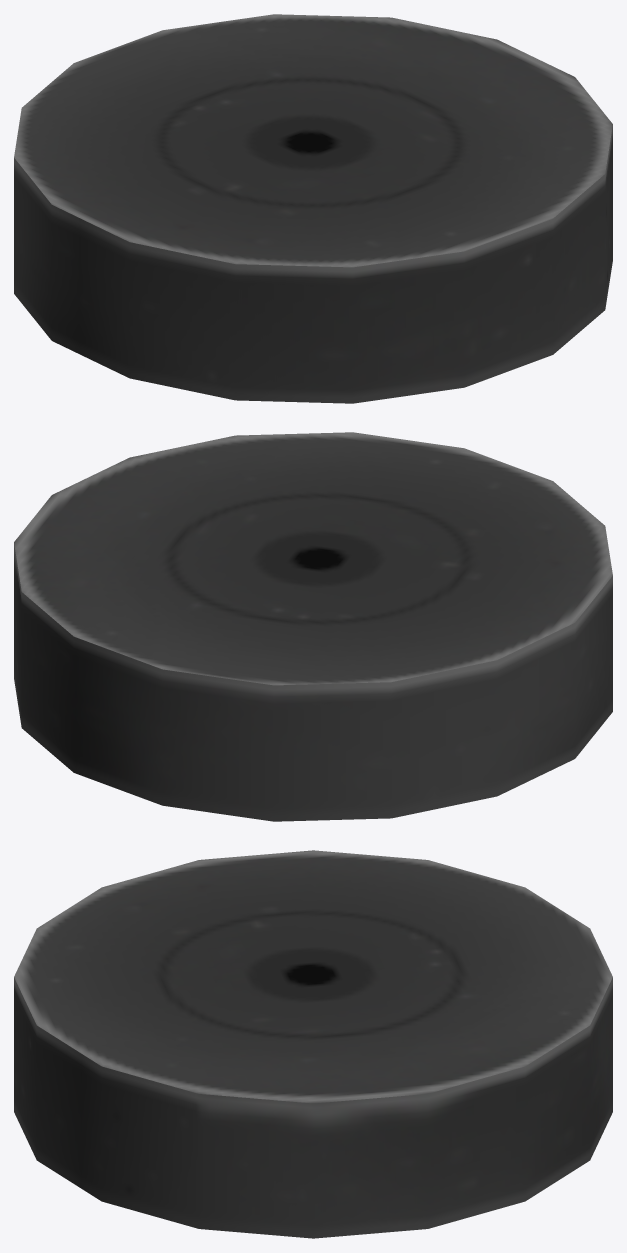
The model's file is AmmunitionCassette.fbx.
3 views of the same model, one above another, from view 1: azimuth 30°, elevation 25°; view 2: azimuth 150°, elevation 25°; view 3: azimuth 270°, elevation 25° (orthographic).
Parts seen in each view (by area): view 1: Cylinder; view 2: Cylinder; view 3: Cylinder.
Boxes of the visible parts, x1,y1,x2,y2 form: Cylinder: [14, 14, 612, 403]; Cylinder: [14, 432, 612, 821]; Cylinder: [14, 850, 612, 1238].
Size of the model in its own units: 200 by 49.78 by 200.
